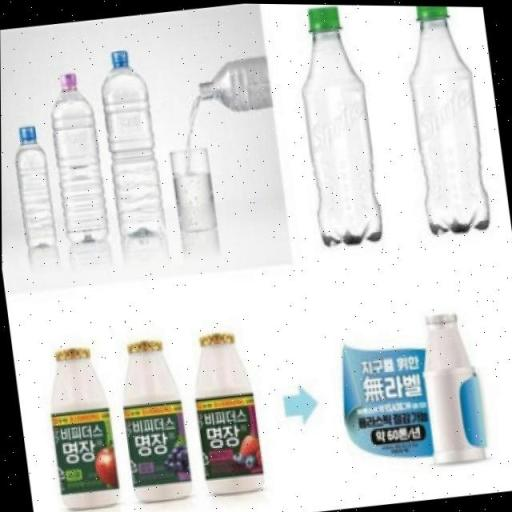plastic: (289, 4, 382, 248), (398, 5, 491, 236), (111, 336, 193, 504), (96, 46, 166, 240), (42, 345, 121, 512), (187, 329, 263, 496), (412, 308, 488, 466), (44, 70, 110, 248), (8, 122, 58, 249), (194, 52, 272, 116), (169, 144, 219, 236)
